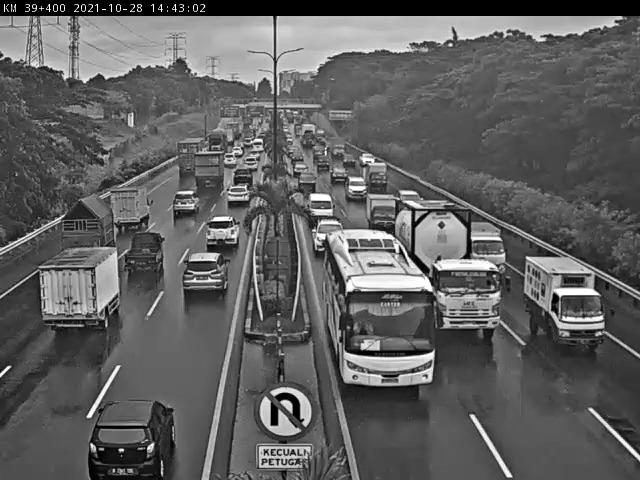big bus: (322, 227, 441, 390)
big truck: (395, 200, 504, 340), (196, 152, 225, 190)
car: (87, 399, 176, 480), (183, 251, 231, 297), (312, 221, 346, 257), (208, 211, 242, 240), (307, 197, 335, 227), (174, 190, 200, 215), (345, 177, 368, 203), (398, 188, 423, 211), (296, 173, 317, 193), (229, 180, 250, 199), (315, 155, 333, 177), (359, 152, 378, 171), (329, 167, 349, 185), (236, 164, 257, 180), (291, 164, 311, 180), (343, 154, 359, 169), (290, 149, 305, 164)
small truck: (525, 254, 606, 351), (37, 246, 125, 331), (63, 192, 118, 261), (465, 222, 506, 279), (107, 186, 152, 230), (124, 233, 167, 275), (366, 193, 400, 233), (367, 162, 390, 193)
